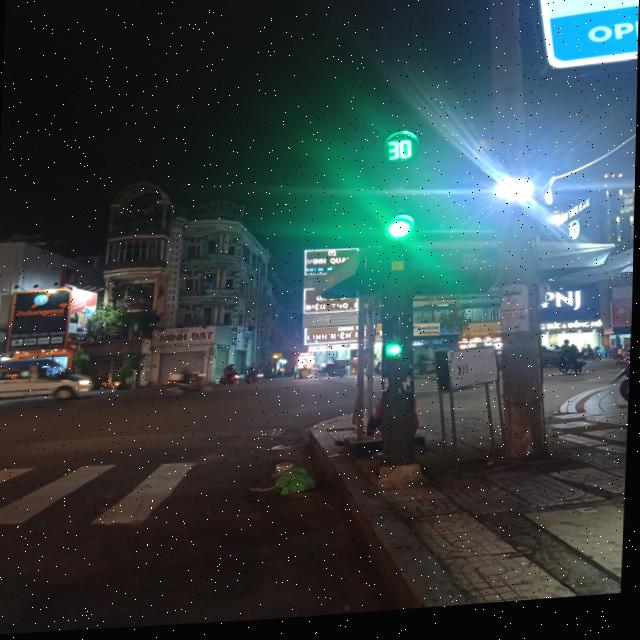Green: (369, 166, 425, 254), (378, 309, 415, 368)
